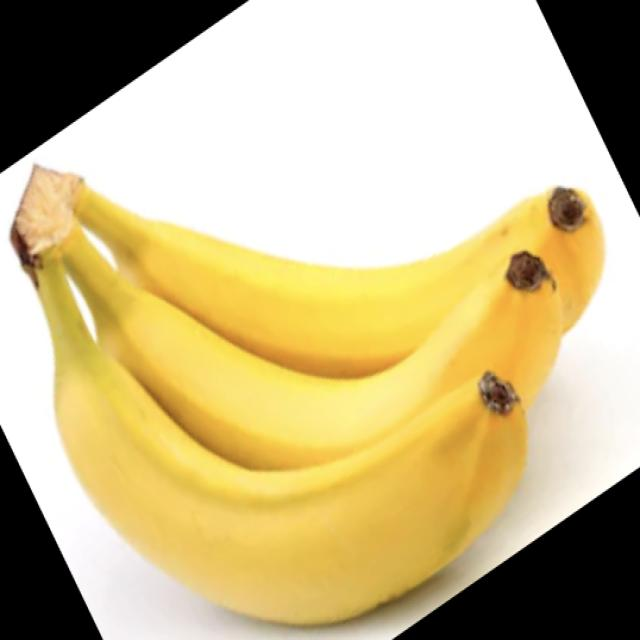god quality banana: (11, 166, 606, 625)
